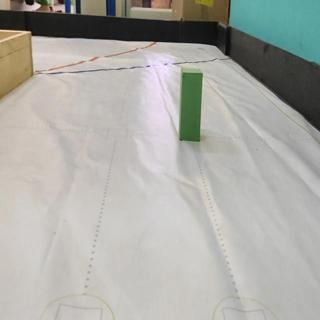greenbox: (180, 66, 204, 143)
